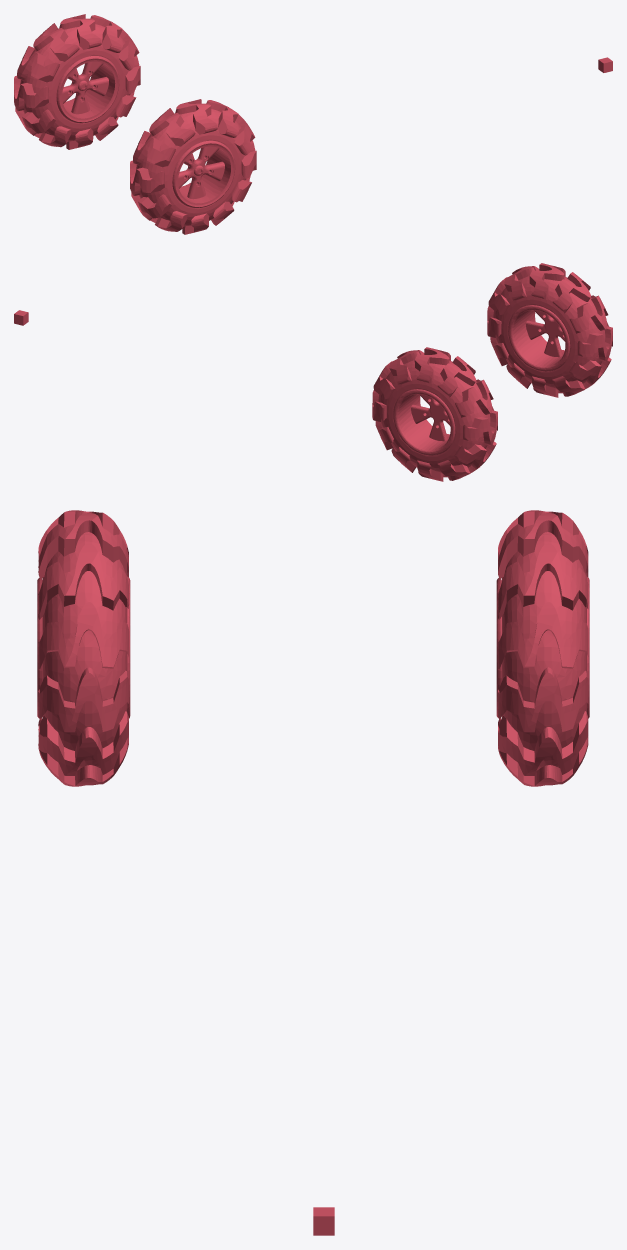
File: wheels.glb
3 renders of one model, top to bottom at view 1: azimuth 30°, elevation 25°; view 2: azimuth 150°, elevation 25°; view 3: azimuth 270°, elevation 25°, orthographic. The views are drawn at different scales.
Visible parts, largest first — view 1: Mesh_Mesh_head_geo.001_lambert2SG.001; view 2: Mesh_Mesh_head_geo.001_lambert2SG.001; view 3: Mesh_Mesh_head_geo.001_lambert2SG.001.
Part boxes in pixels (x1,y1,x2,y2): Mesh_Mesh_head_geo.001_lambert2SG.001: (14, 14, 612, 234); Mesh_Mesh_head_geo.001_lambert2SG.001: (14, 263, 612, 481); Mesh_Mesh_head_geo.001_lambert2SG.001: (37, 510, 589, 1235).
Bounding box in the file's own units: 57.93 × 13 × 26.
